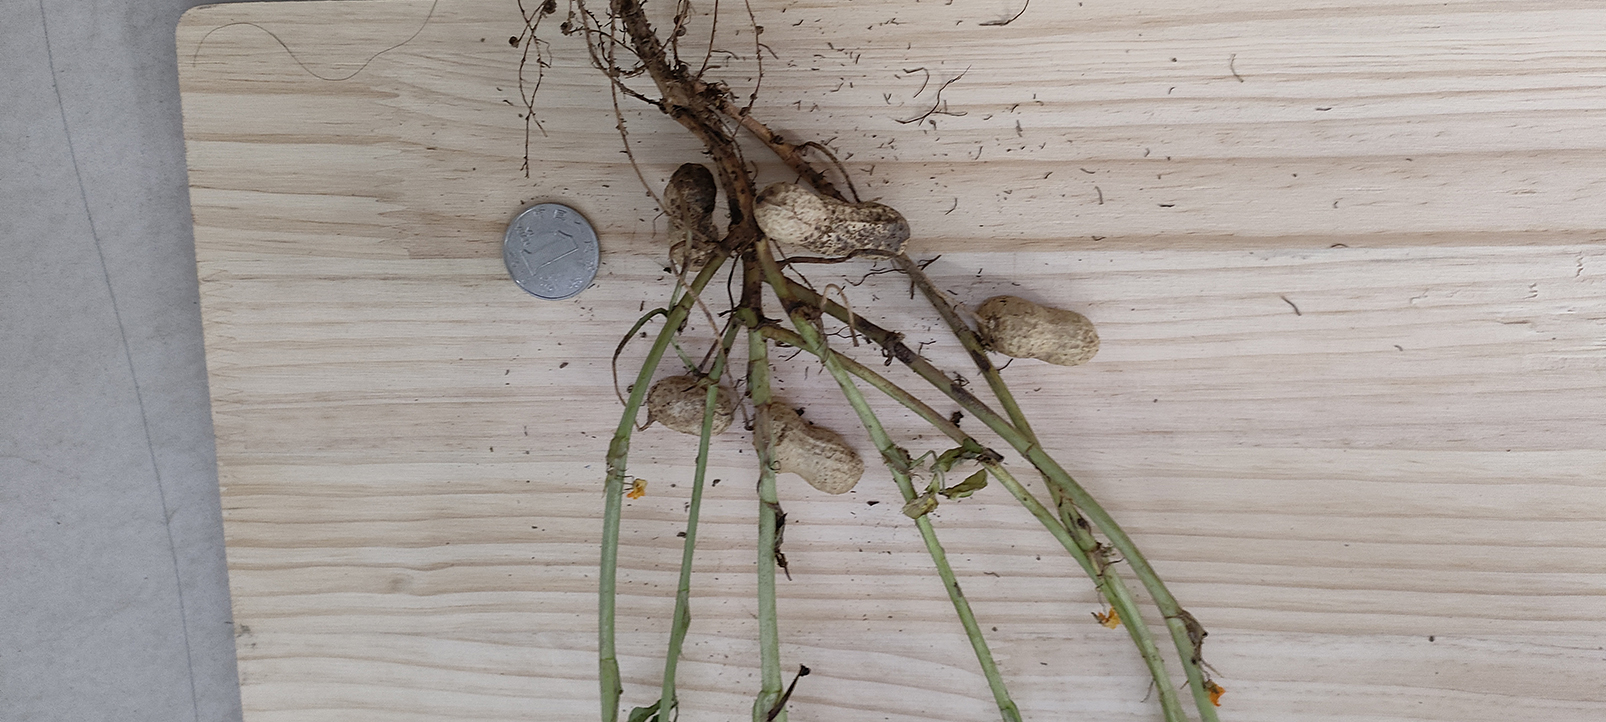h: (753, 181, 911, 258), (976, 295, 1102, 366), (769, 404, 864, 494)
l: (664, 162, 717, 272), (648, 378, 734, 436)
